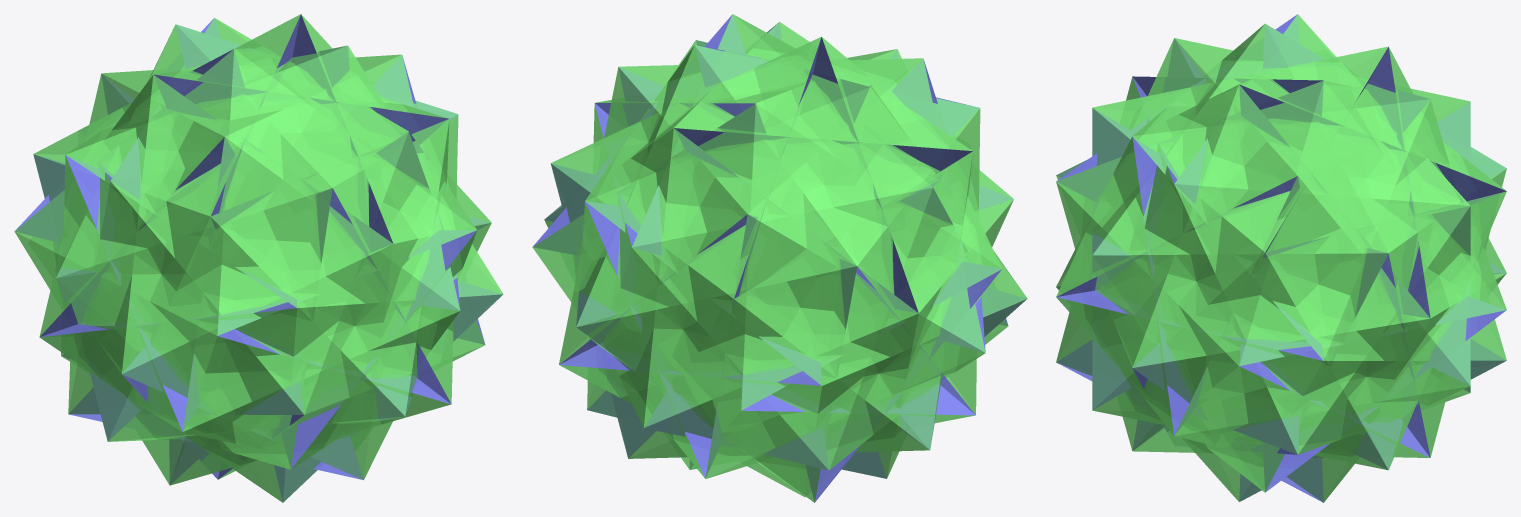
Rendered from 42_Dodekexcavated_Gosid.obj.
3 views of the same model, side by side, from view 1: azimuth 30°, elevation 25°; view 2: azimuth 150°, elevation 25°; view 3: azimuth 270°, elevation 25° (orthographic).
Bounding box in the file's own units: 1.61 × 1.61 × 1.49.
